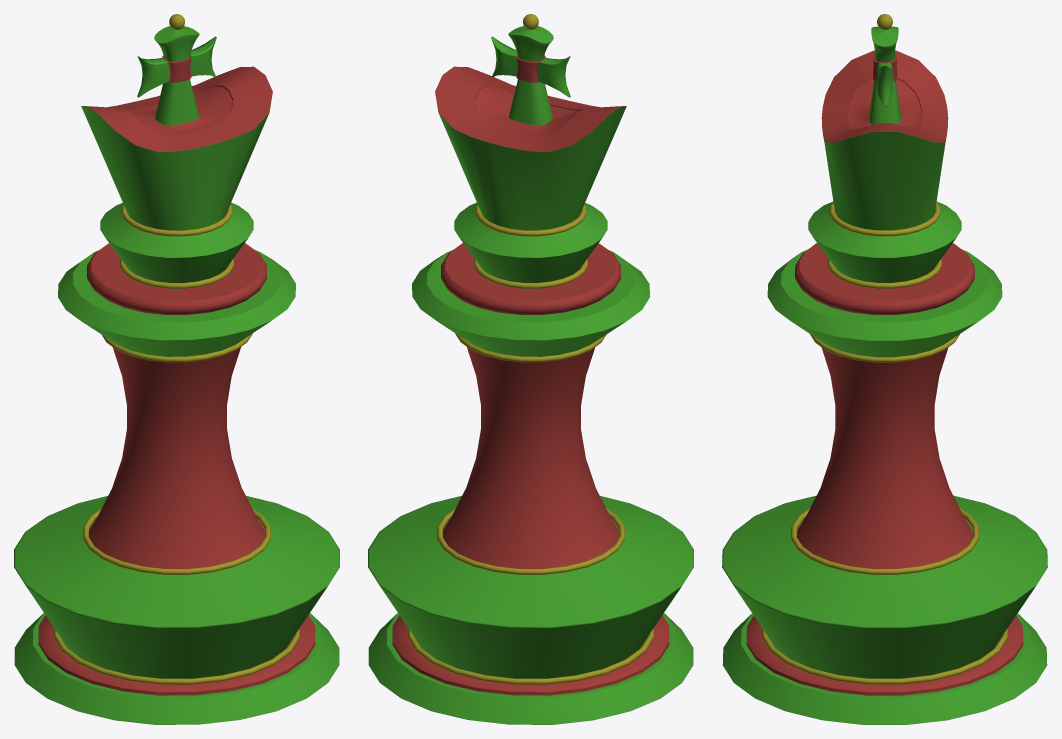
Rendered from King_fbx.fbx.
3 renders of one model, left to right at view 1: azimuth 30°, elevation 25°; view 2: azimuth 150°, elevation 25°; view 3: azimuth 270°, elevation 25°, orthographic.
Parts seen in each view (by area): view 1: King; view 2: King; view 3: King.
Part boxes in pixels (x1,y1,x2,y2): King: [14, 14, 339, 724]; King: [368, 14, 693, 724]; King: [722, 14, 1047, 724].
Bounding box in the file's own units: 0.0437 × 0.095 × 0.0437.
